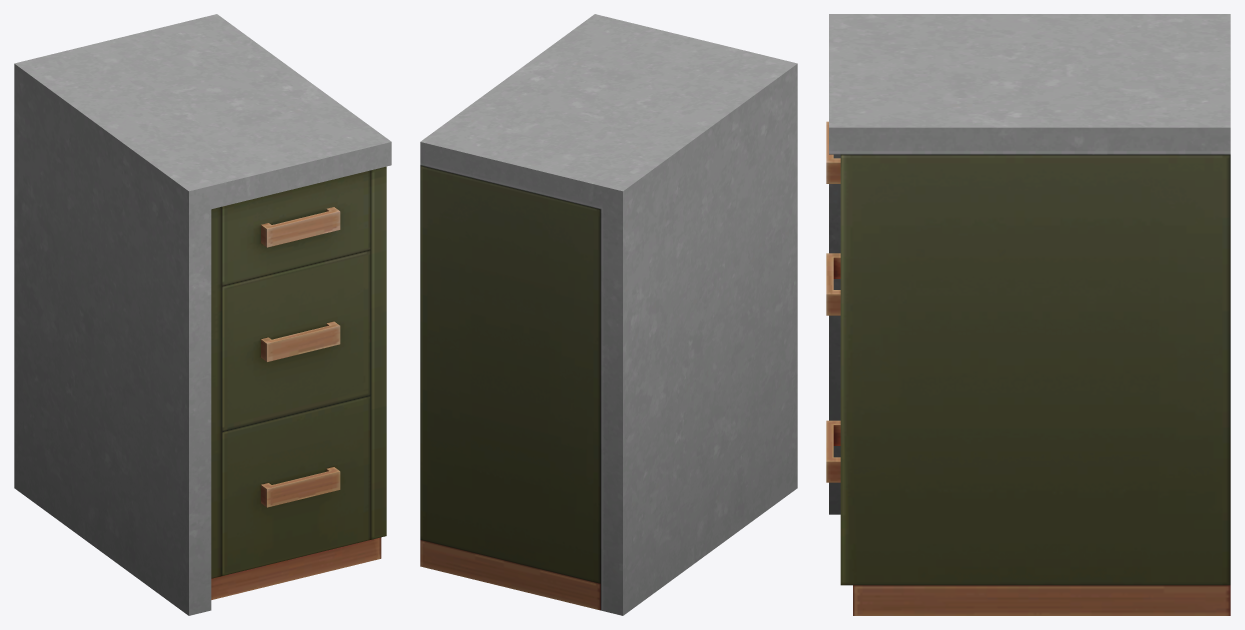
File: inferiorCierre.fbx
The picture shows the model from 3 angles, left to right: view 1: azimuth 30°, elevation 25°; view 2: azimuth 150°, elevation 25°; view 3: azimuth 270°, elevation 25°; orthographic projection. The views are drawn at different scales.
Visible parts, largest first — view 1: s4studio_mesh_1; view 2: s4studio_mesh_1; view 3: s4studio_mesh_1.
Boxes of the visible parts, x1,y1,x2,y2 form: s4studio_mesh_1: [14, 14, 391, 615]; s4studio_mesh_1: [420, 14, 797, 615]; s4studio_mesh_1: [826, 14, 1230, 615].
Size of the model in its own units: 50 by 100 by 75.03.
2 materials, 2 textured.
